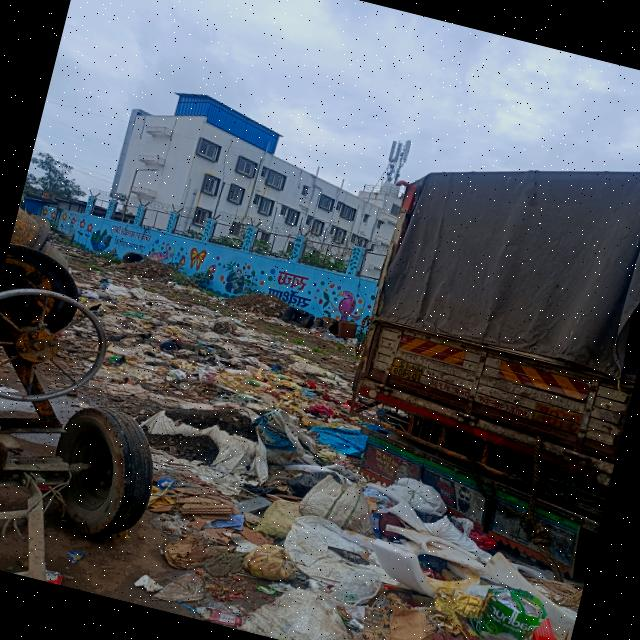garbage: (123, 414, 594, 640), (63, 276, 374, 452), (220, 282, 358, 342), (65, 241, 202, 296)
